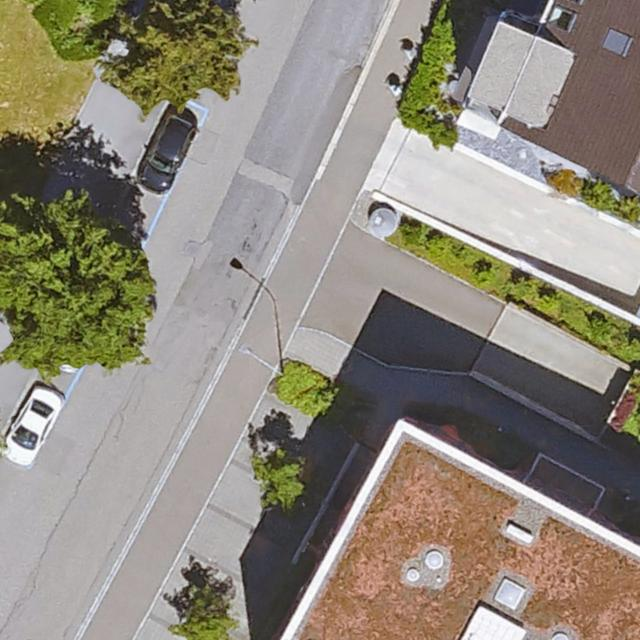tree: (0, 201, 155, 373), (108, 0, 245, 107), (255, 450, 310, 507), (177, 597, 232, 640)
